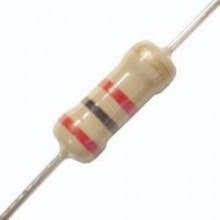resistor: (44, 36, 180, 193)
